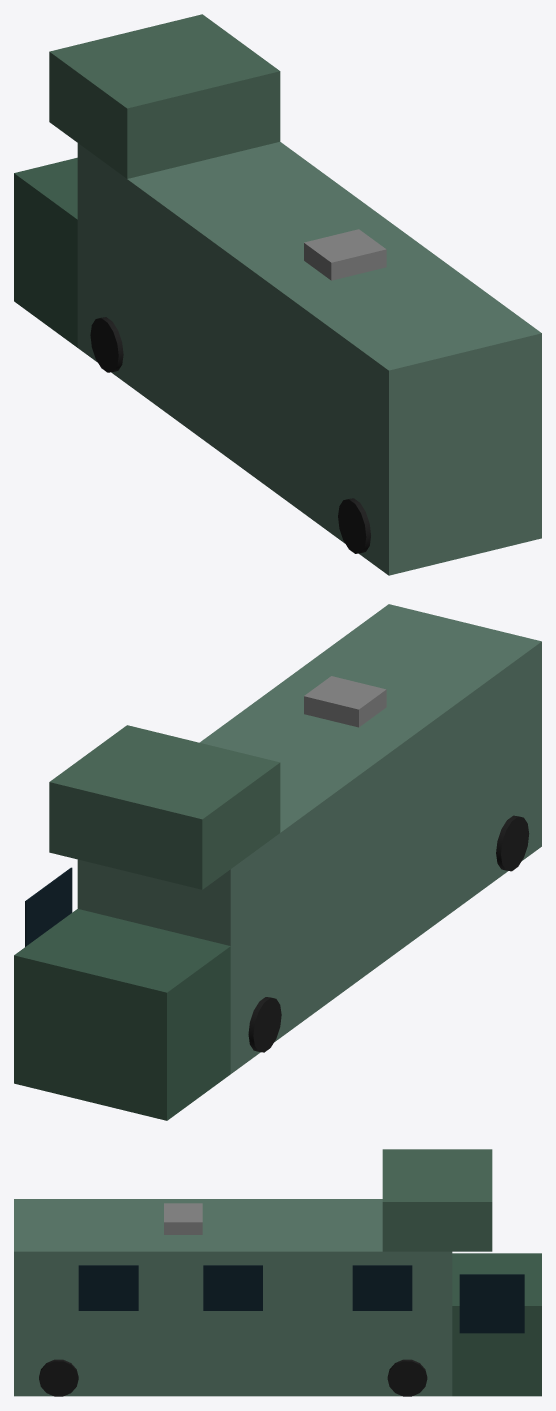
Rendered from rv-class-c.glb.
3 renders of one model, top to bottom at view 1: azimuth 30°, elevation 25°; view 2: azimuth 150°, elevation 25°; view 3: azimuth 270°, elevation 25°, orthographic. The views are drawn at different scales.
Size of the model in its own units: 2.66 by 4.3 by 10.6.
